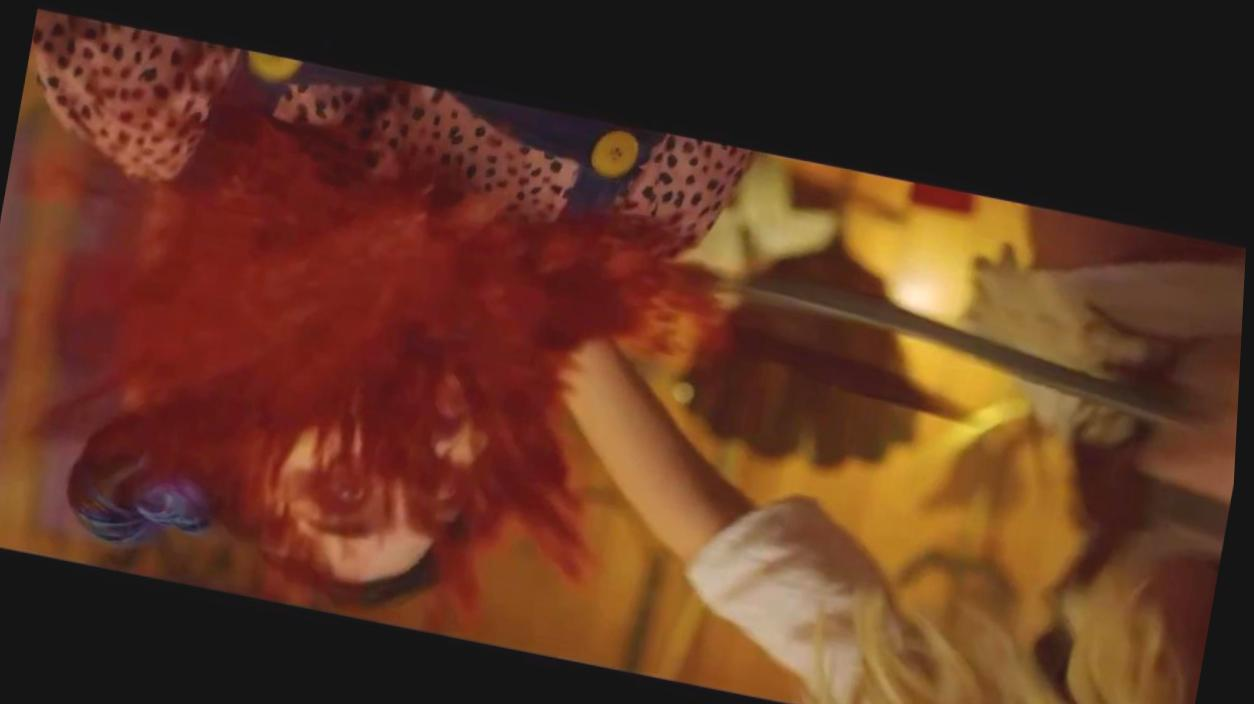Fire: (28, 38, 742, 612)
